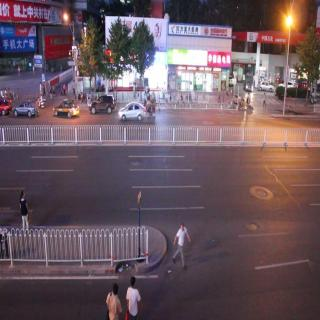Car: (118, 102, 151, 122), (87, 94, 115, 116), (52, 98, 78, 120), (13, 99, 36, 117), (259, 80, 274, 94), (243, 78, 254, 93)
